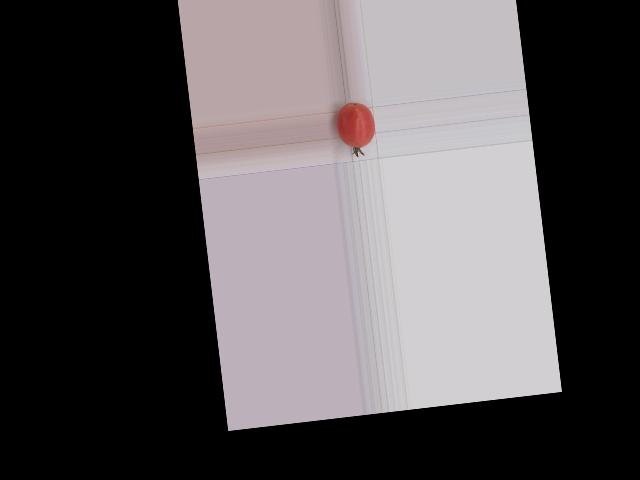tomato: (334, 100, 377, 149)
